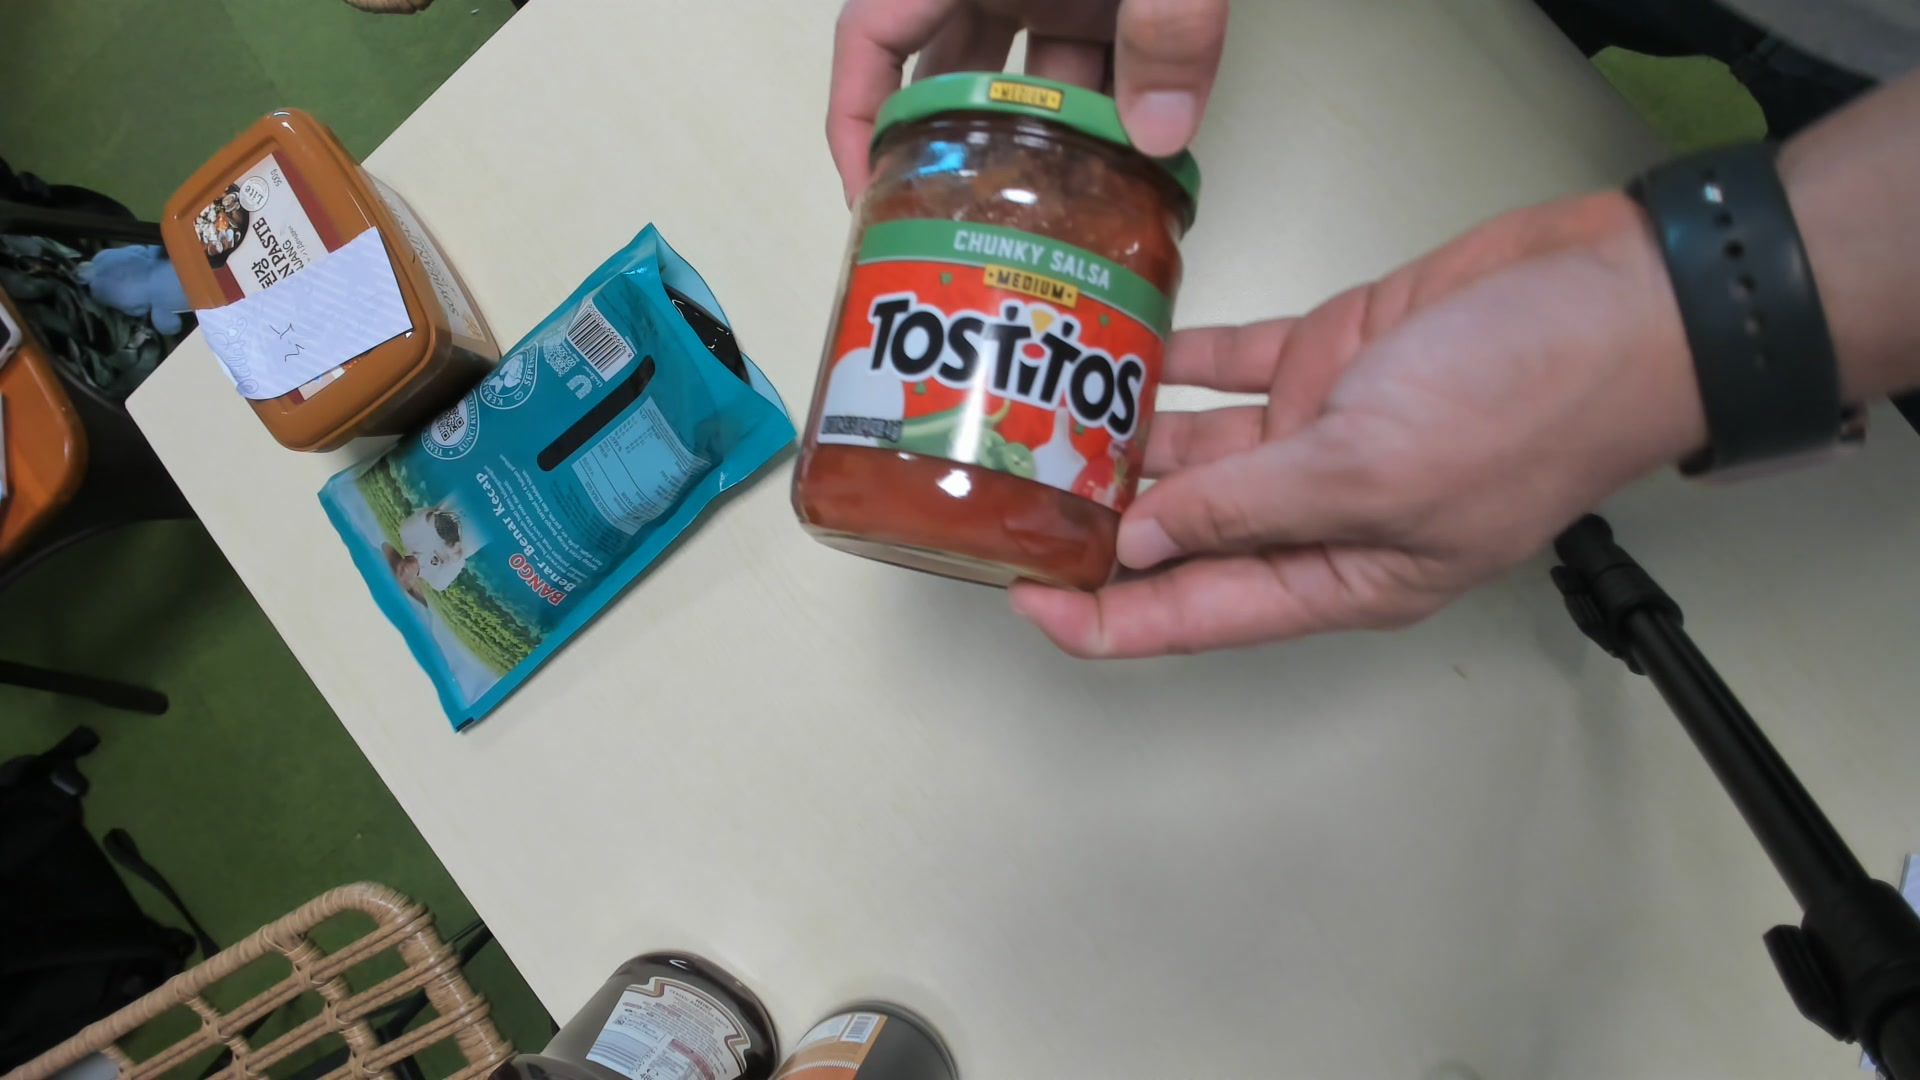OtherSauceDressing_400-499g_NonHalal_NonHealthy: (789, 73, 1204, 599)
